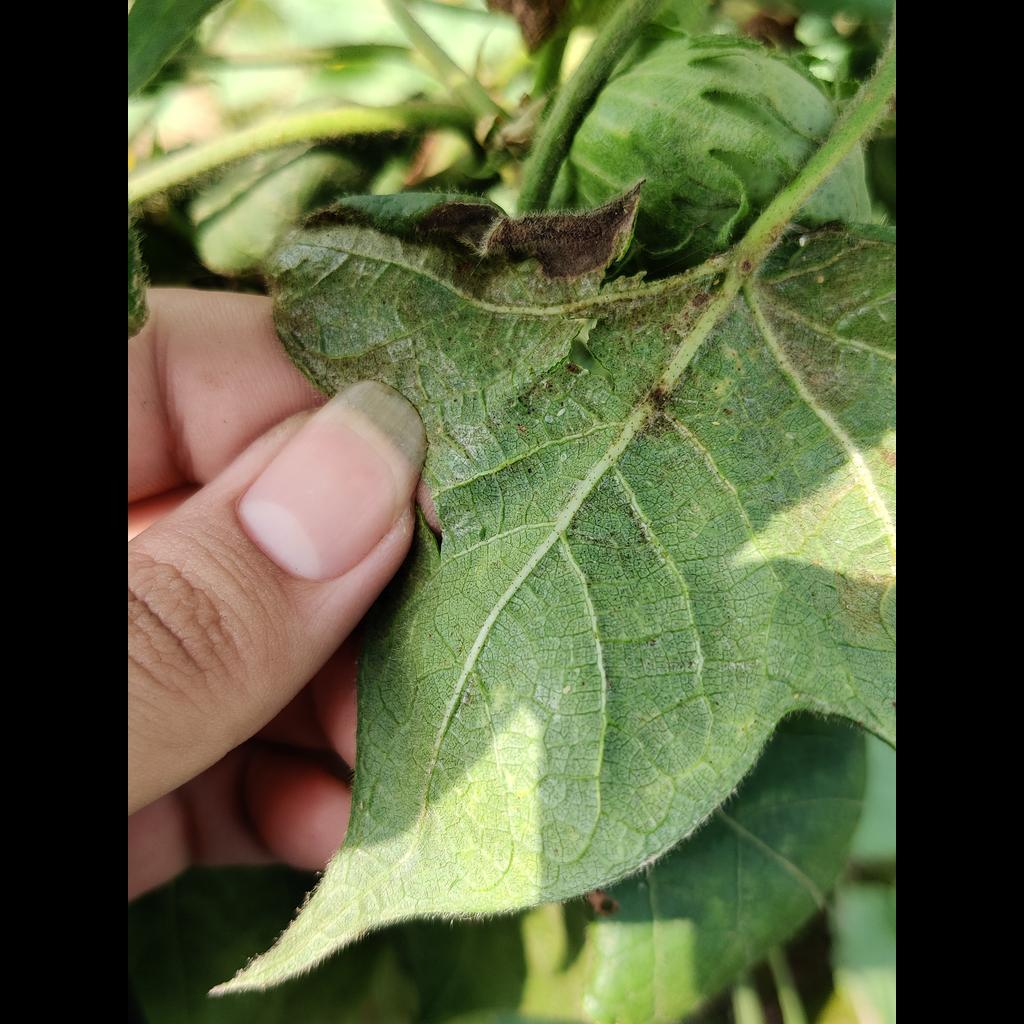nymph: (562, 684, 572, 694), (557, 408, 566, 417), (784, 431, 794, 439), (799, 237, 805, 247), (711, 421, 720, 427)
